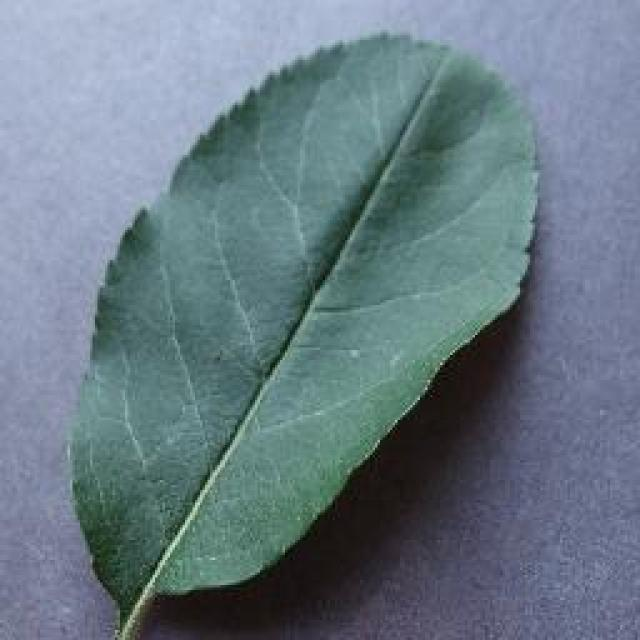apple healthy: (65, 28, 543, 638)
